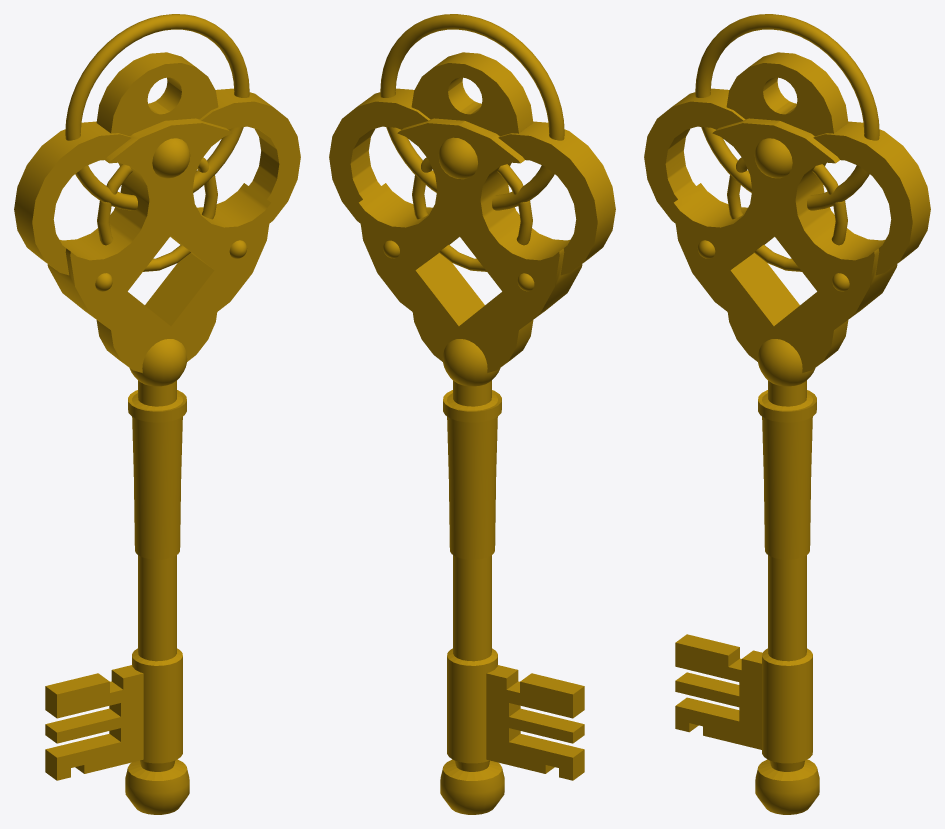
Rendered from key.obj.
The picture shows the model from 3 angles, left to right: view 1: azimuth 30°, elevation 25°; view 2: azimuth 150°, elevation 25°; view 3: azimuth 330°, elevation 25°; orthographic projection.
Visible parts, largest first — view 1: key pCylinder17, key pCylinder1, key pCube11, key pTorus4, key pSphere7, key pSphere1; view 2: key pCylinder17, key pCylinder1, key pCube11, key pTorus4, key pSphere7, pSphere2 key; view 3: key pCylinder17, key pCylinder1, key pTorus4, key pCube11, key pSphere7, key pSphere1.
Boxes of the visible parts, <box> form: key pCylinder17: <box>14,52,300,372</box>; key pCylinder1: <box>125,380,189,814</box>; key pCube11: <box>45,665,143,780</box>; key pTorus4: <box>65,14,249,271</box>; key pSphere7: <box>129,339,187,386</box>; key pSphere1: <box>152,138,190,178</box>; key pCylinder17: <box>329,52,615,372</box>; key pCylinder1: <box>440,380,504,814</box>; key pCube11: <box>486,665,584,780</box>; key pTorus4: <box>380,14,564,271</box>; key pSphere7: <box>442,339,500,386</box>; pSphere2 key: <box>438,137,477,179</box>; key pCylinder17: <box>644,52,930,372</box>; key pCylinder1: <box>755,380,819,814</box>; key pTorus4: <box>695,14,879,271</box>; key pCube11: <box>675,634,762,749</box>; key pSphere7: <box>757,339,815,386</box>; key pSphere1: <box>754,138,792,178</box>.
Bounding box in the file's own units: 4 × 11.27 × 1.13.
